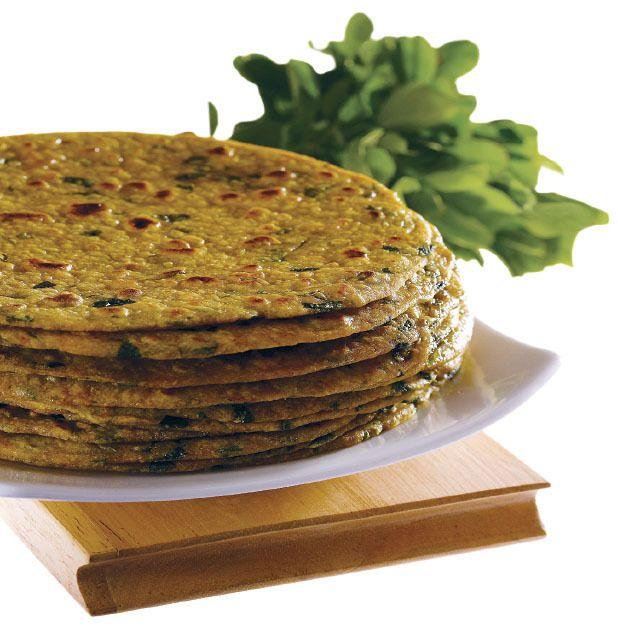thepla: (6, 121, 450, 477)
